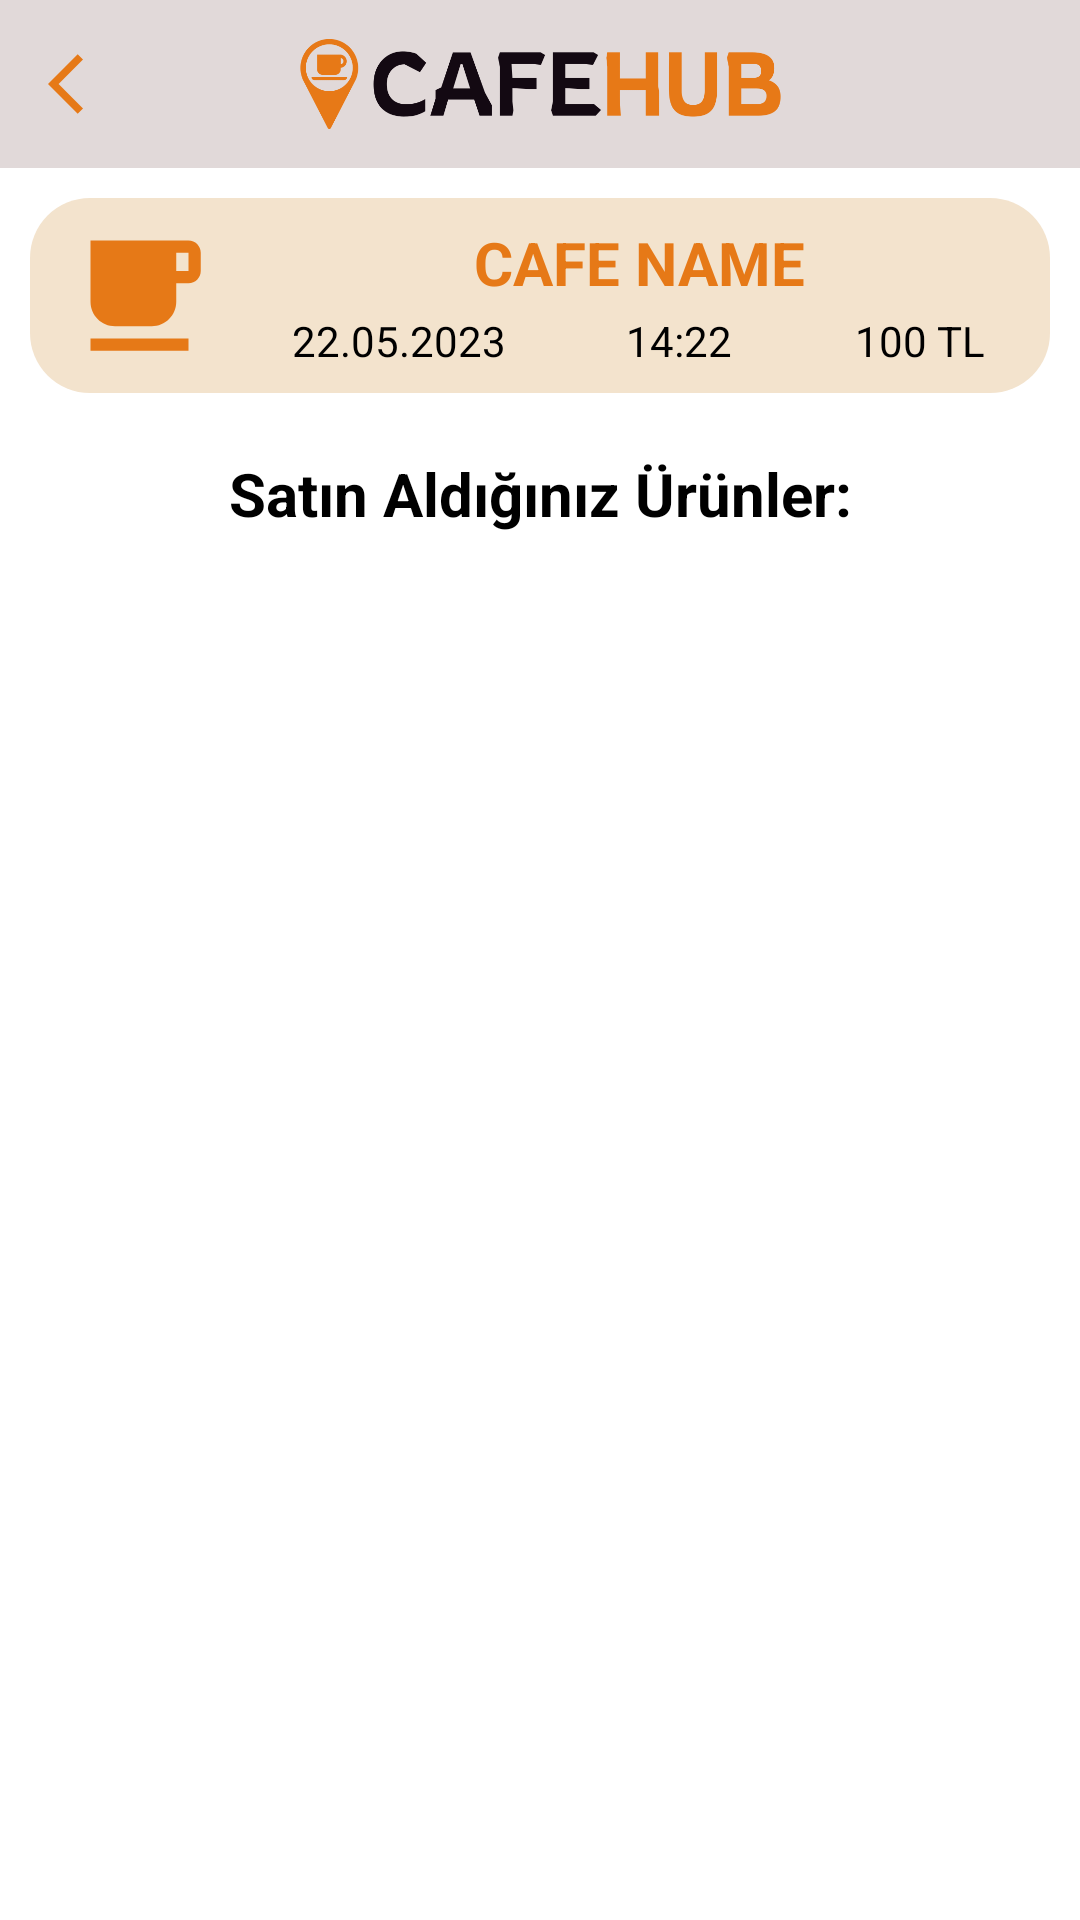

Icons on this 1080×1920 Android screen, each with the point to tap as point (x, y):
cafe: point (145, 295)
